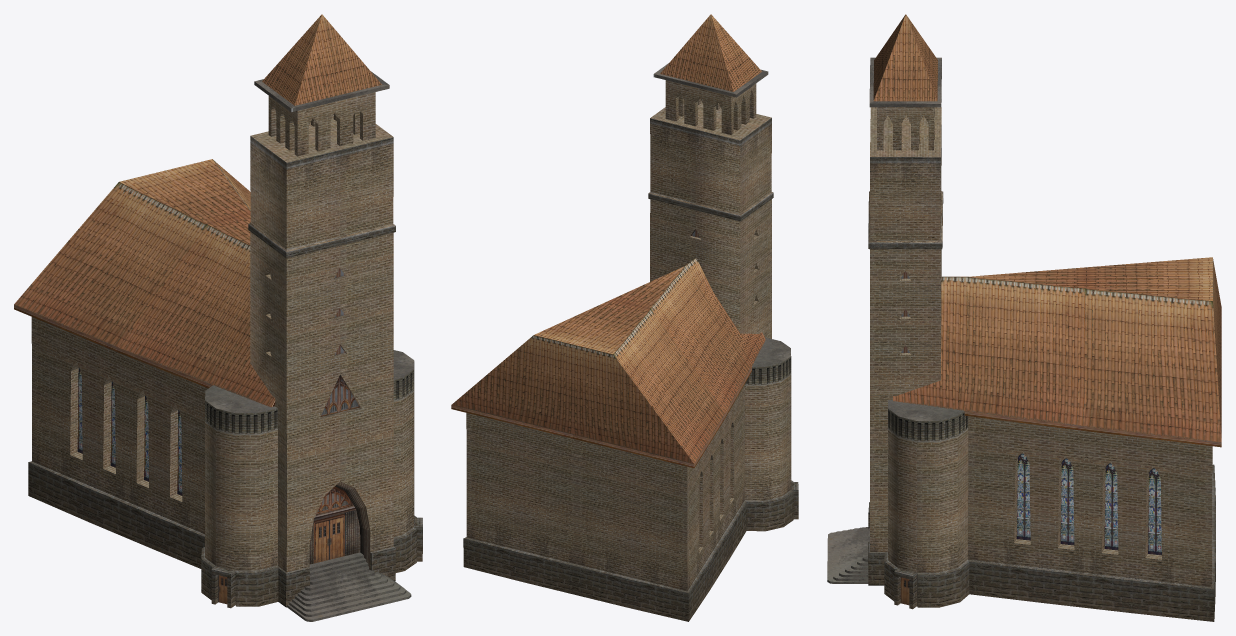
Rendered from Church01.FBX.
3 views of the same model, side by side, from view 1: azimuth 30°, elevation 25°; view 2: azimuth 150°, elevation 25°; view 3: azimuth 270°, elevation 25° (orthographic). The views are drawn at different scales.
Visible parts, largest first — view 1: Church01; view 2: Church01; view 3: Church01.
Boxes of the visible parts, <box> form: Church01: <box>14,14,422,621</box>; Church01: <box>451,14,798,621</box>; Church01: <box>827,14,1221,621</box>.
Bounding box in the file's own units: 21.62 × 40.87 × 26.76.
1 material, 1 textured.
